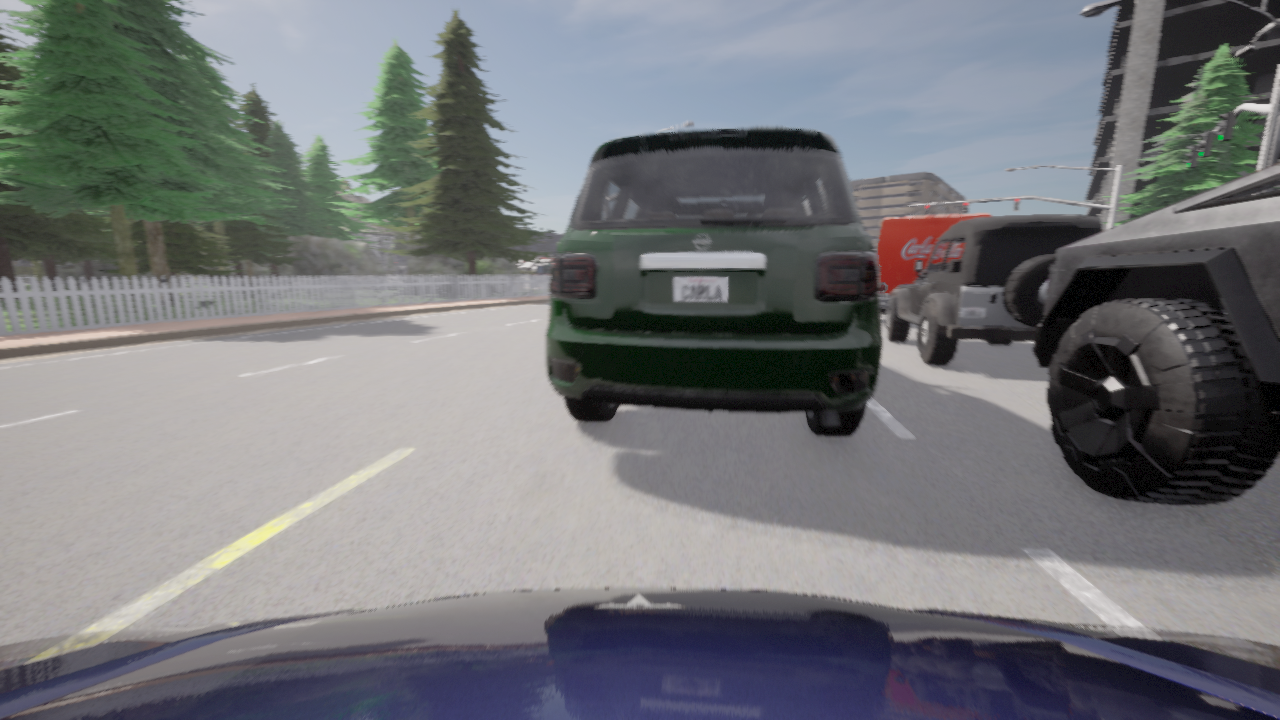cyclist: (0, 588, 1279, 719), (545, 128, 881, 436), (1033, 163, 1279, 506), (886, 215, 1102, 364), (873, 213, 990, 315)
